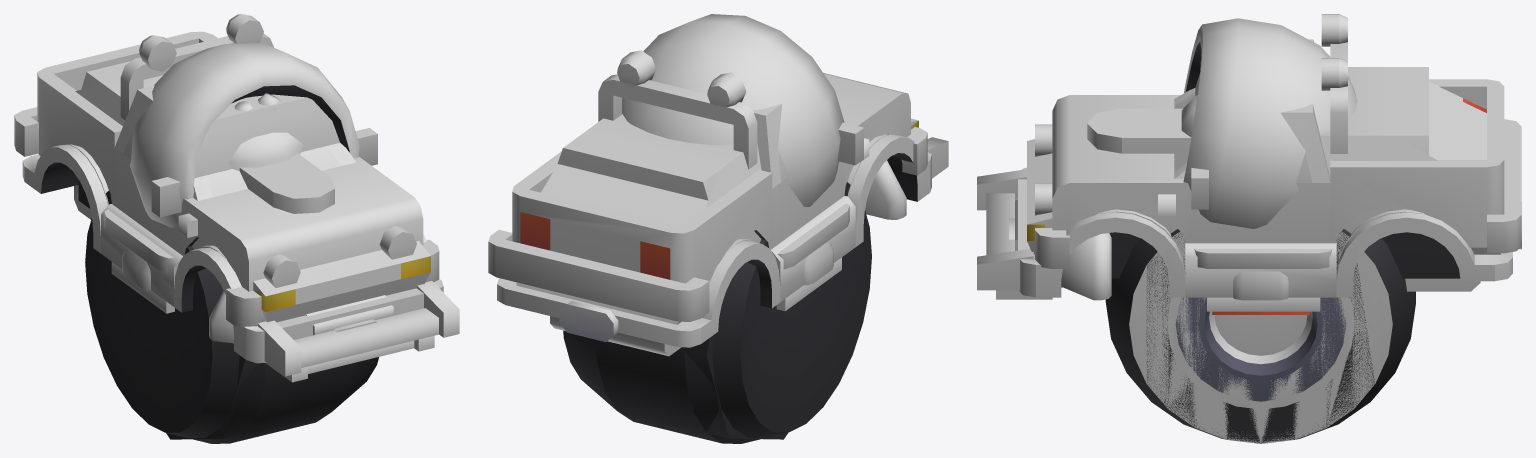
File: karts.glb
3 renders of one model, left to right at view 1: azimuth 30°, elevation 25°; view 2: azimuth 150°, elevation 25°; view 3: azimuth 270°, elevation 25°, orthographic. The views are drawn at different scales.
Parts seen in each view (by area): view 1: body_heavy, wheel_sport, body_rally, driver_oobi, body_speedster, body_drifter, driver_ooli, body_standard, wheel_offroad, wheel_classic; view 2: body_heavy, wheel_sport, body_rally, driver_oobi, body_standard, body_drifter, wheel_offroad, body_speedster; view 3: body_heavy, body_rally, wheel_sport, driver_oobi, wheel_classic, body_speedster, body_standard, body_drifter.
Boxes of the visible parts, box(x1,y1,x2,y2) form: body_heavy: box(14, 14, 439, 328); wheel_sport: box(85, 190, 378, 443); body_rally: box(22, 61, 443, 363); driver_oobi: box(130, 43, 359, 227); body_speedster: box(70, 144, 459, 376); body_drifter: box(74, 185, 434, 382); driver_ooli: box(229, 132, 303, 171); body_standard: box(122, 248, 233, 343); wheel_offroad: box(166, 355, 258, 439); wheel_classic: box(87, 218, 93, 322); body_heavy: box(488, 50, 927, 321); wheel_sport: box(563, 182, 871, 443); body_rally: box(497, 114, 931, 347); driver_oobi: box(622, 14, 844, 206); body_standard: box(804, 160, 906, 285); body_drifter: box(550, 257, 841, 356); wheel_offroad: box(684, 335, 787, 439); body_speedster: box(725, 134, 948, 253); body_heavy: box(1035, 14, 1521, 268); body_rally: box(1009, 67, 1521, 297); wheel_sport: box(1105, 229, 1415, 443); driver_oobi: box(1183, 18, 1357, 228); wheel_classic: box(1146, 231, 1374, 443); body_speedster: box(977, 169, 1423, 290); body_standard: box(1061, 233, 1288, 300); body_drifter: box(996, 198, 1480, 311).
Bounding box in the file's own units: 1.68 × 2.79 × 3.51.
